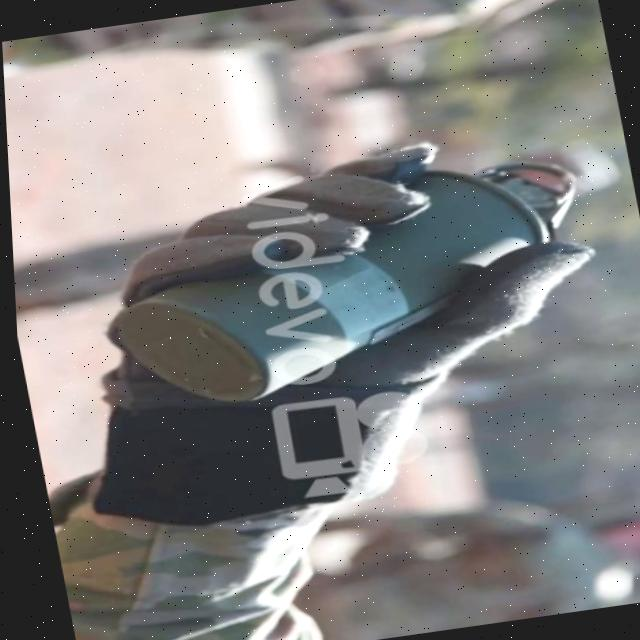grenade: (82, 140, 619, 426)
